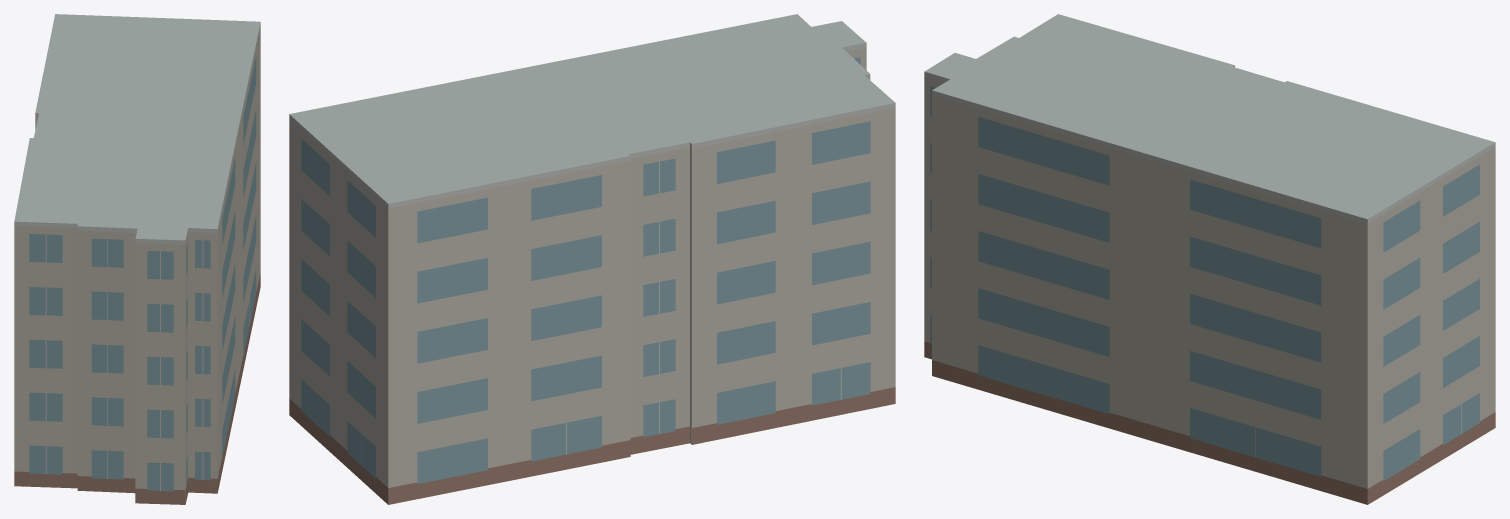
File: survey-upis-32660896.glb
3 views of the same model, side by side, from view 1: azimuth 30°, elevation 25°; view 2: azimuth 150°, elevation 25°; view 3: azimuth 270°, elevation 25° (orthographic). The views are drawn at different scales.
Parts seen in each view (by area): view 1: survey-upis-32660896.tmp; view 2: survey-upis-32660896.tmp; view 3: survey-upis-32660896.tmp.
Boxes of the visible parts, x1,y1,x2,y2 form: survey-upis-32660896.tmp: (14,14,260,504); survey-upis-32660896.tmp: (289,14,895,504); survey-upis-32660896.tmp: (924,14,1495,504).
Size of the model in its own units: 22.98 by 14.9 by 27.02.
